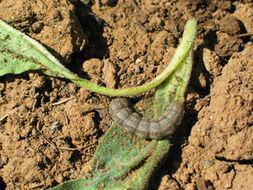caterpillars: (100, 81, 195, 153)
